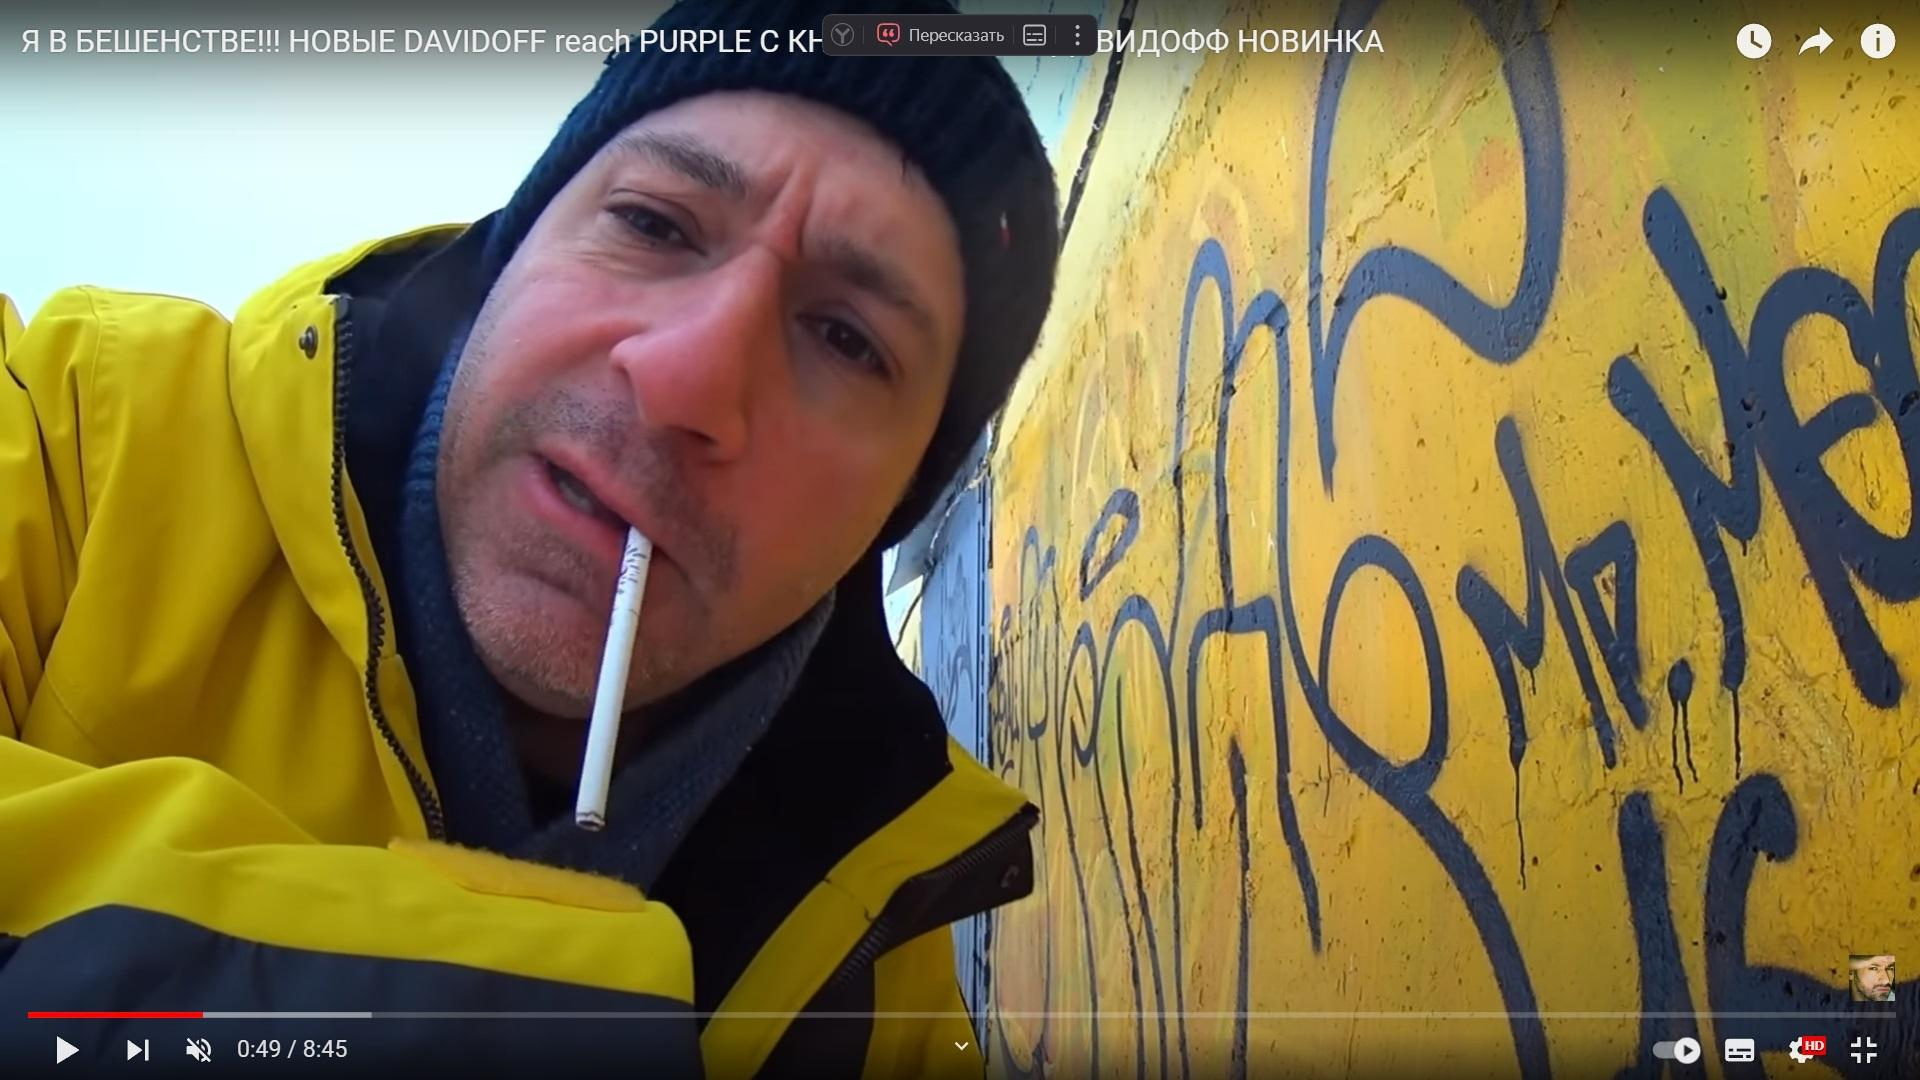cigarette: (575, 522, 654, 831)
